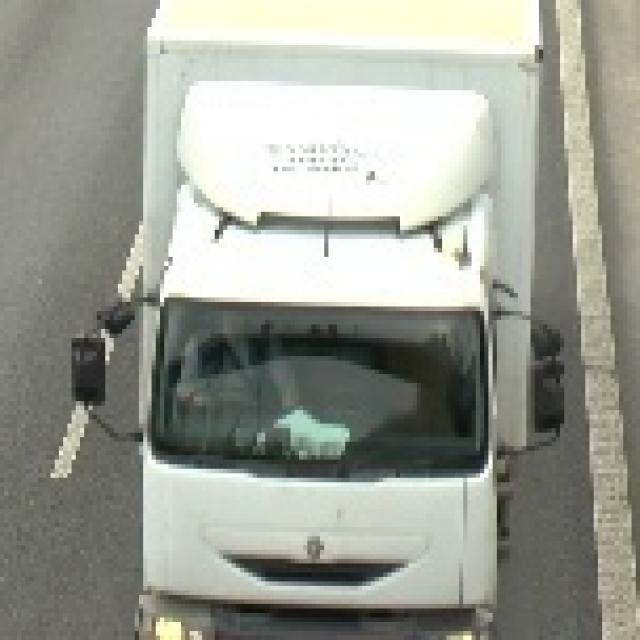truck: (126, 0, 539, 631)
